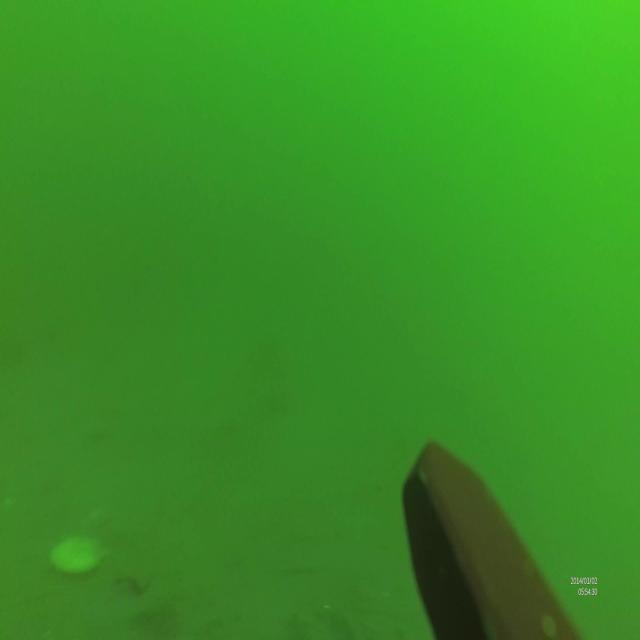scallop: (47, 528, 109, 580)
